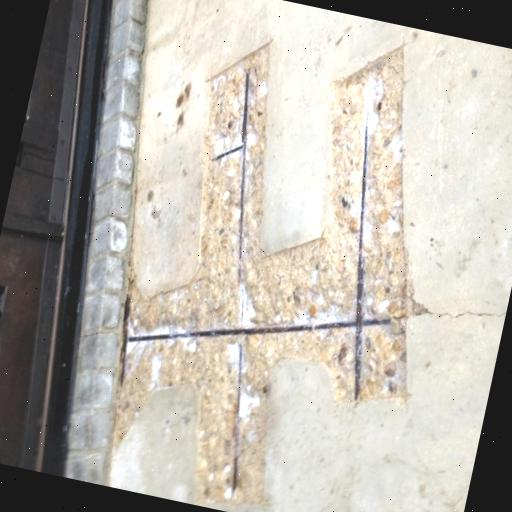spalling: (109, 43, 403, 495)
